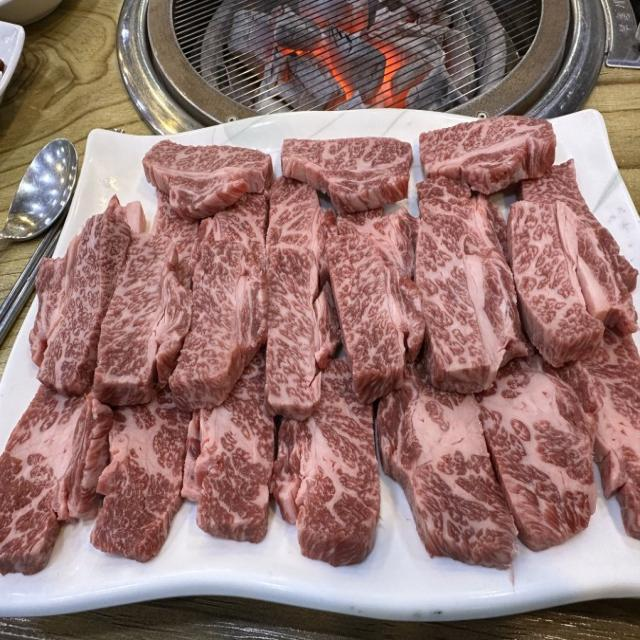beef: (353, 155, 622, 422), (59, 187, 323, 427)
